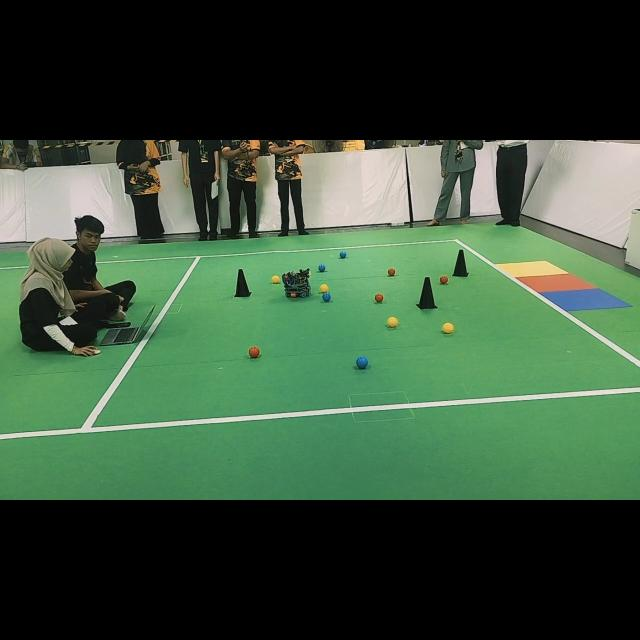ball: (518, 274, 596, 292), (441, 322, 454, 334), (249, 346, 260, 358), (388, 316, 399, 328), (356, 356, 366, 369), (439, 275, 449, 285), (375, 292, 384, 302), (322, 292, 331, 302), (271, 275, 280, 283), (320, 284, 329, 292), (388, 268, 396, 276), (318, 264, 326, 272), (340, 251, 348, 258)
goal: (541, 289, 631, 311), (496, 261, 569, 278)
